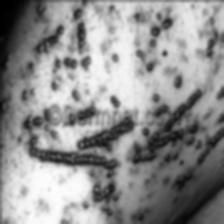Unclassified: (21, 0, 224, 105), (46, 130, 182, 184), (0, 104, 46, 224), (48, 181, 142, 224), (188, 117, 224, 174)
